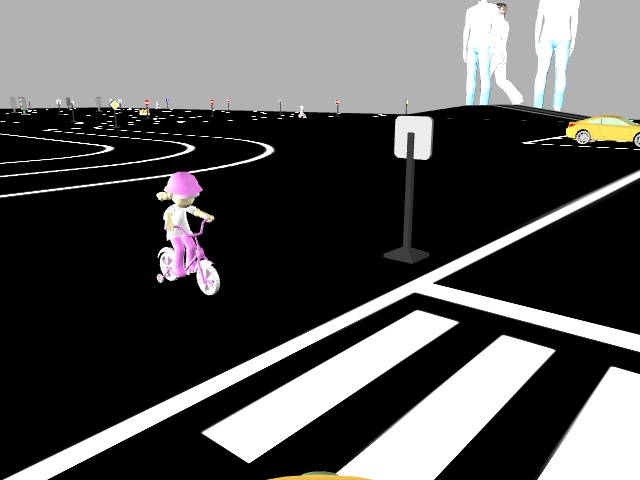Pedestrian: (153, 165, 222, 300)
